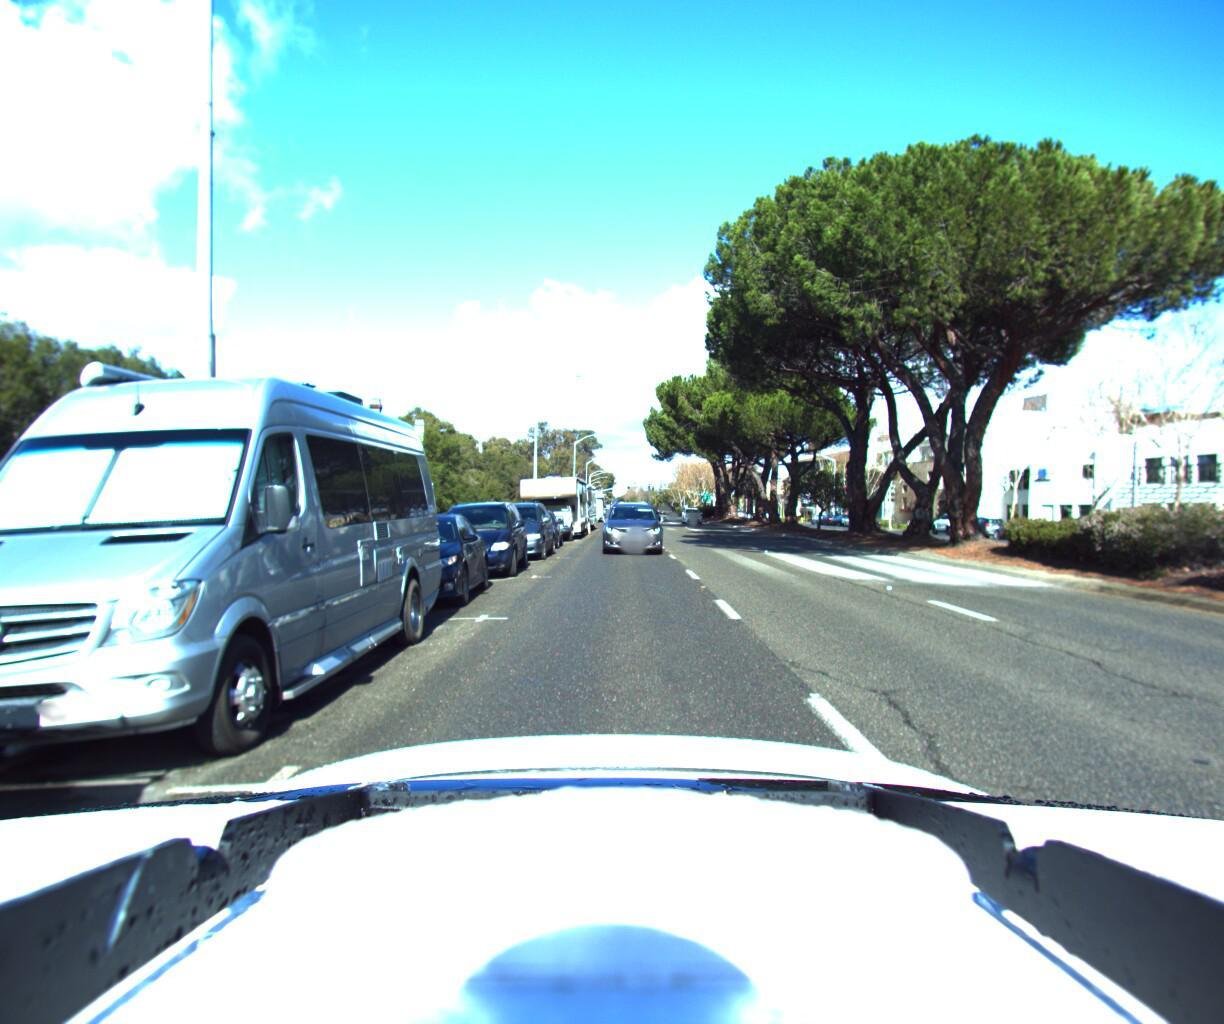car: (0, 234, 440, 838), (324, 515, 489, 616), (418, 498, 531, 583), (468, 498, 556, 565), (601, 495, 657, 556), (506, 509, 562, 550), (679, 504, 702, 521)
other_vehicle: (511, 466, 589, 541), (534, 478, 597, 534), (573, 488, 602, 523)
